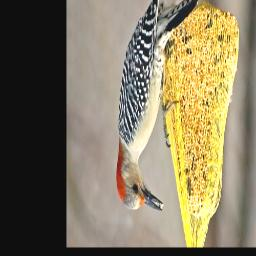Woodpecker: (103, 0, 208, 222)
